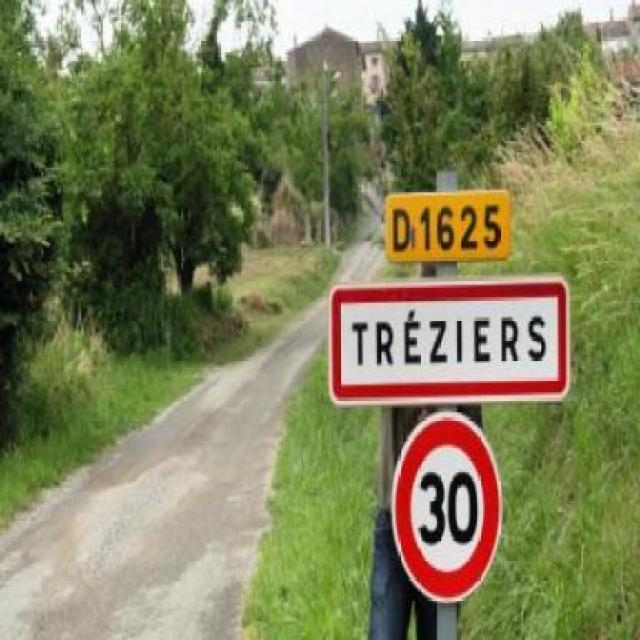forb_speed_over_30: (388, 407, 502, 610)
